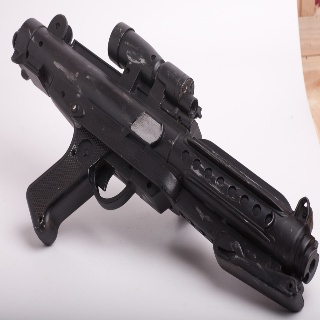rifle: (11, 14, 319, 316)
